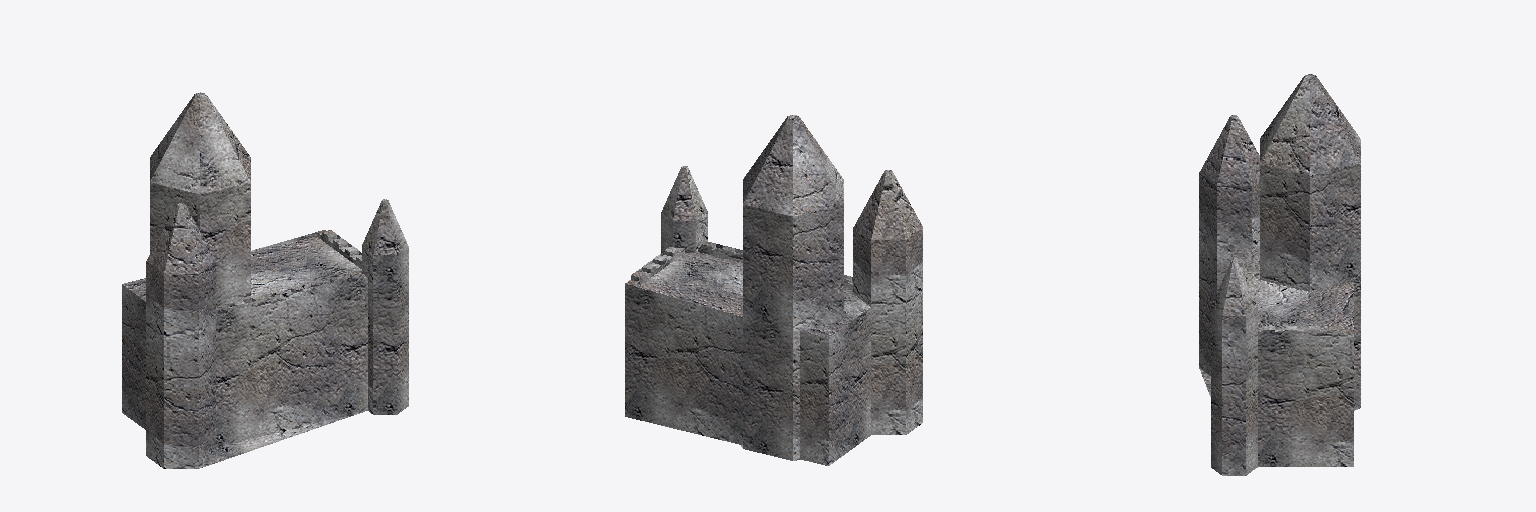
3 renders of one model, left to right at view 1: azimuth 30°, elevation 25°; view 2: azimuth 150°, elevation 25°; view 3: azimuth 270°, elevation 25°, orthographic.
Parts seen in each view (by area): view 1: Mesh1 Model; view 2: Mesh1 Model; view 3: Mesh1 Model.
Part boxes in pixels (x1,y1,x2,y2): Mesh1 Model: (122, 92, 408, 468); Mesh1 Model: (625, 115, 922, 465); Mesh1 Model: (1199, 74, 1360, 475).
Size of the model in its own units: 5078 by 6257 by 2871.
Materials: 1 (1 with a texture image).